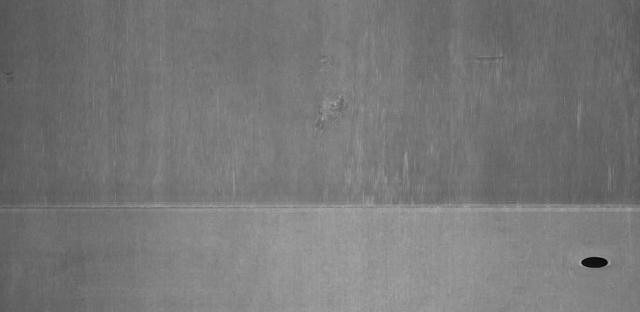punching_hole: (571, 250, 617, 274)
rolled_pit: (458, 50, 511, 68)
welding_line: (1, 198, 636, 219)
